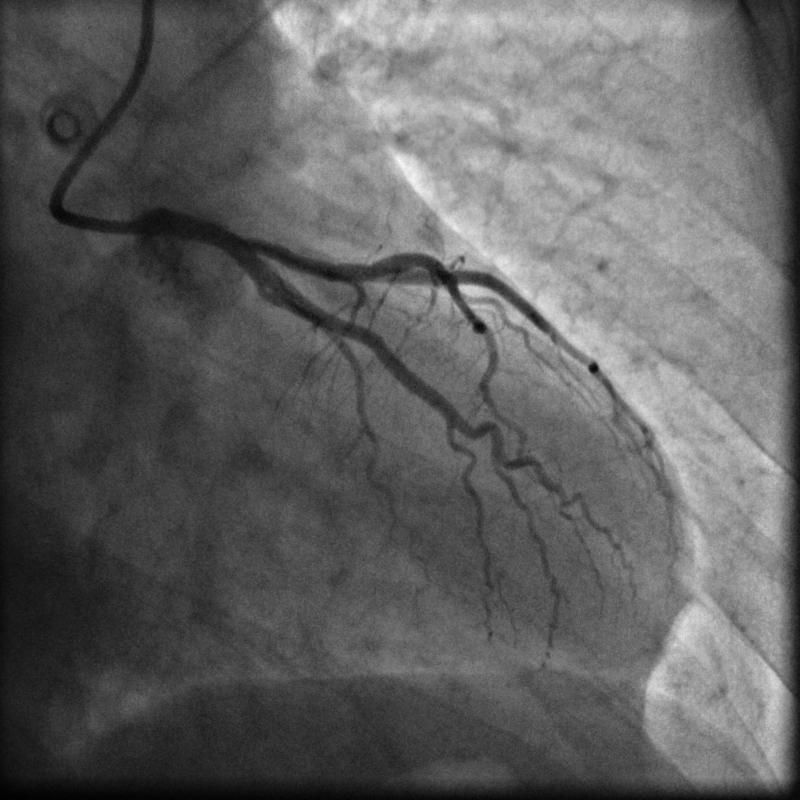Stenosis: (238, 229, 280, 256)
